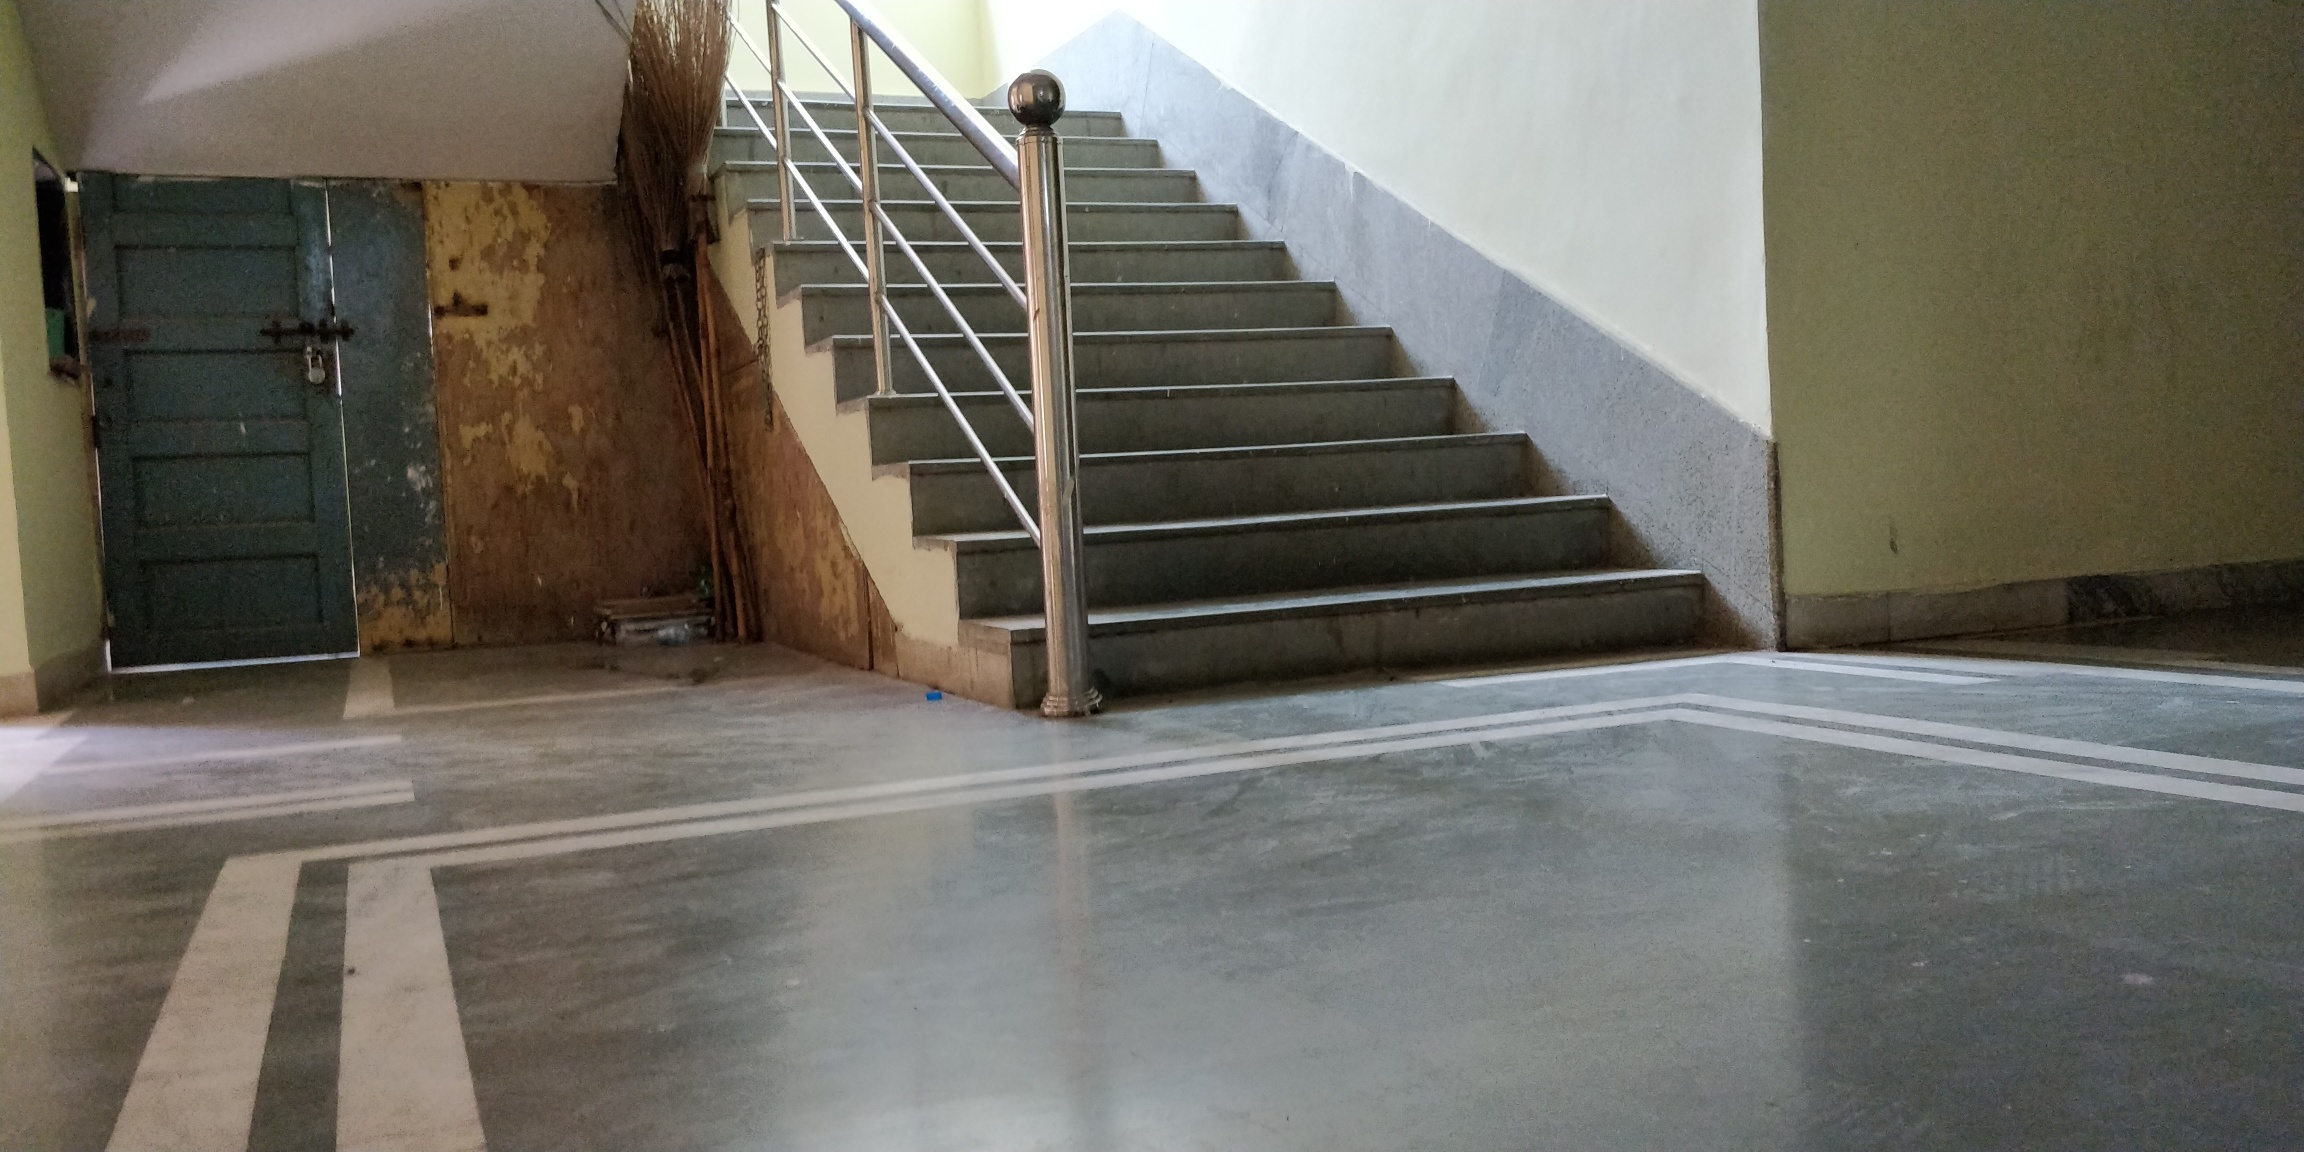stairs_up: (760, 94, 1677, 702)
